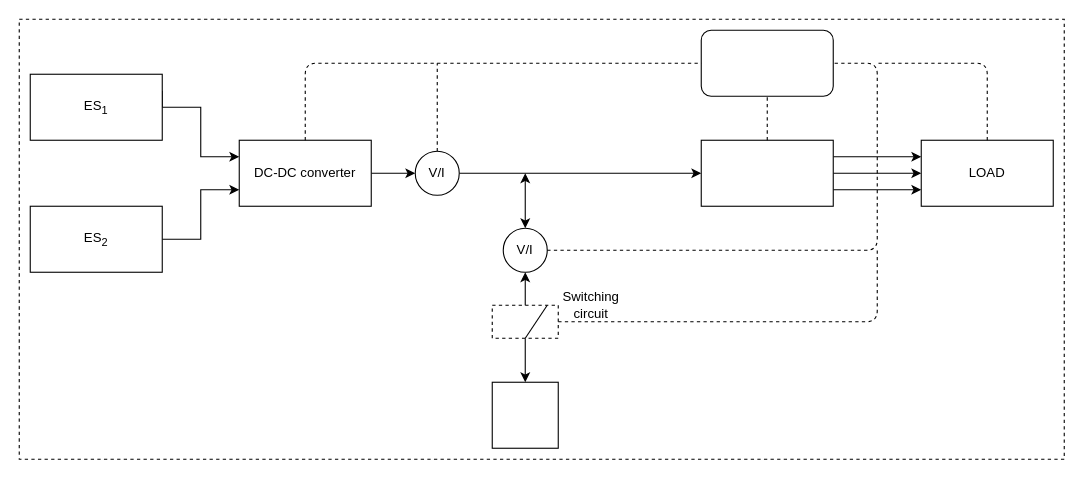
This 1084x479 diagram has some shape labels left out. The box of each missing label's shape, as (x1, y1, x2, y2) in pixels:
ESS: (491, 381, 558, 448)
MCU: (700, 29, 833, 96)
PDU: (700, 139, 833, 206)
